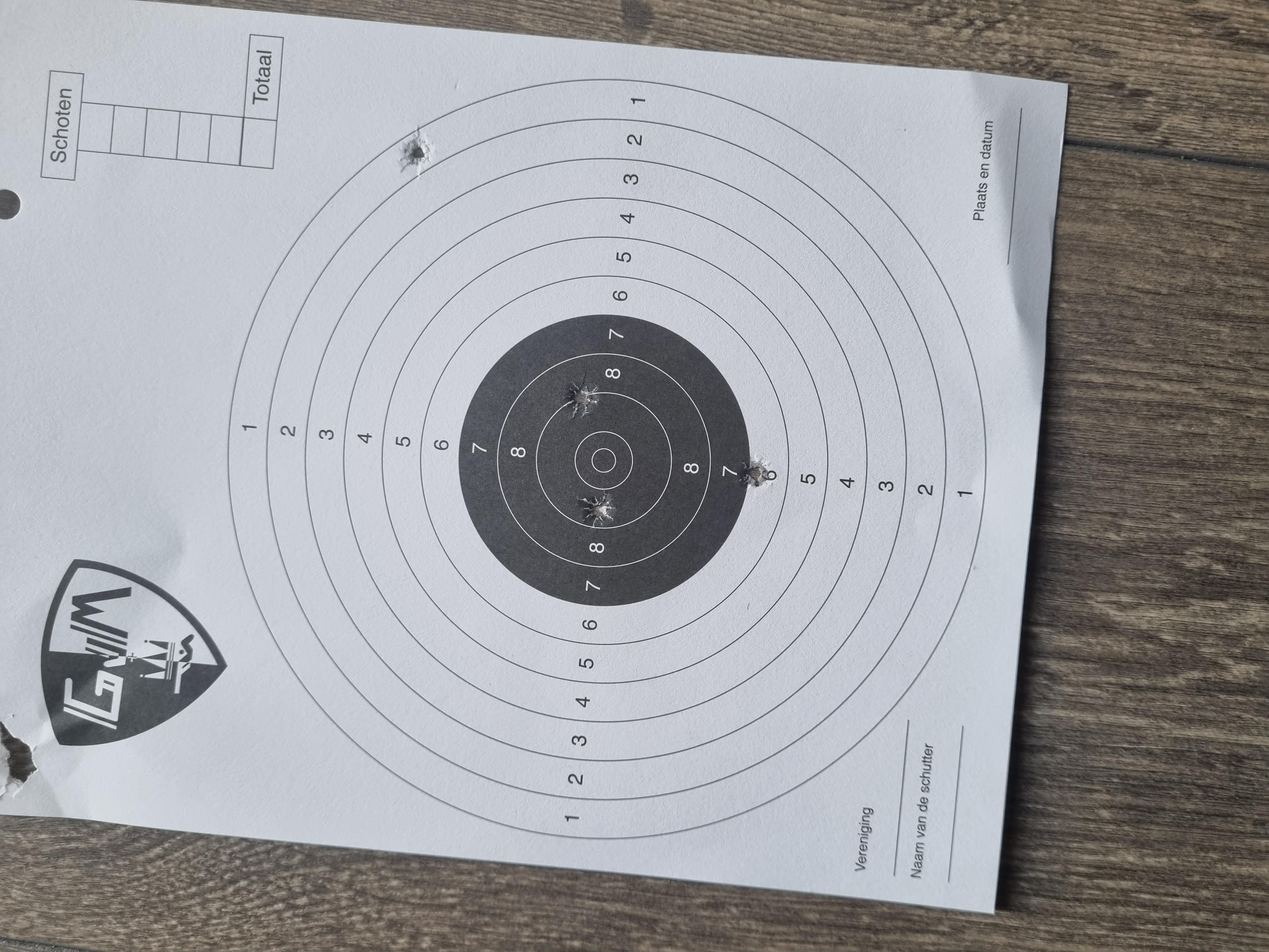hole: (565, 428, 618, 464), (1041, 296, 1093, 327), (716, 420, 767, 451), (613, 552, 659, 581)
